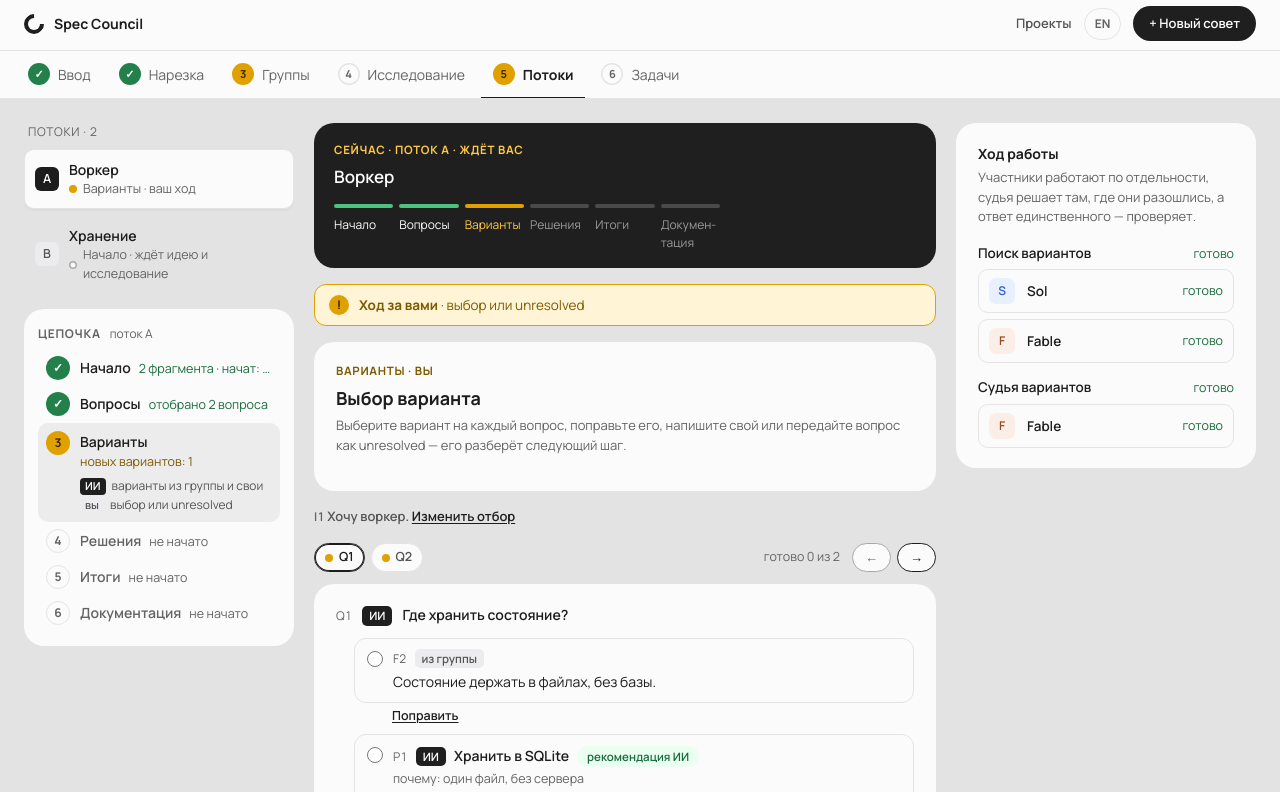
Test case: Поток: начало и вопросы › варианты: из группы и от ИИ, «пока не решаю»; выбор по каждому вопросу уходит на сервер
Expected: the text "Состояние держать в файлах, без базы." is shown, top-left (393, 671), bottom-right (656, 692)
Expected: the text "рекомендация ИИ" is shown, top-left (577, 746), bottom-right (699, 767)
Click the radio button labelled "Хранить в SQLite": (375, 754) top-left (367, 746), bottom-right (383, 762)
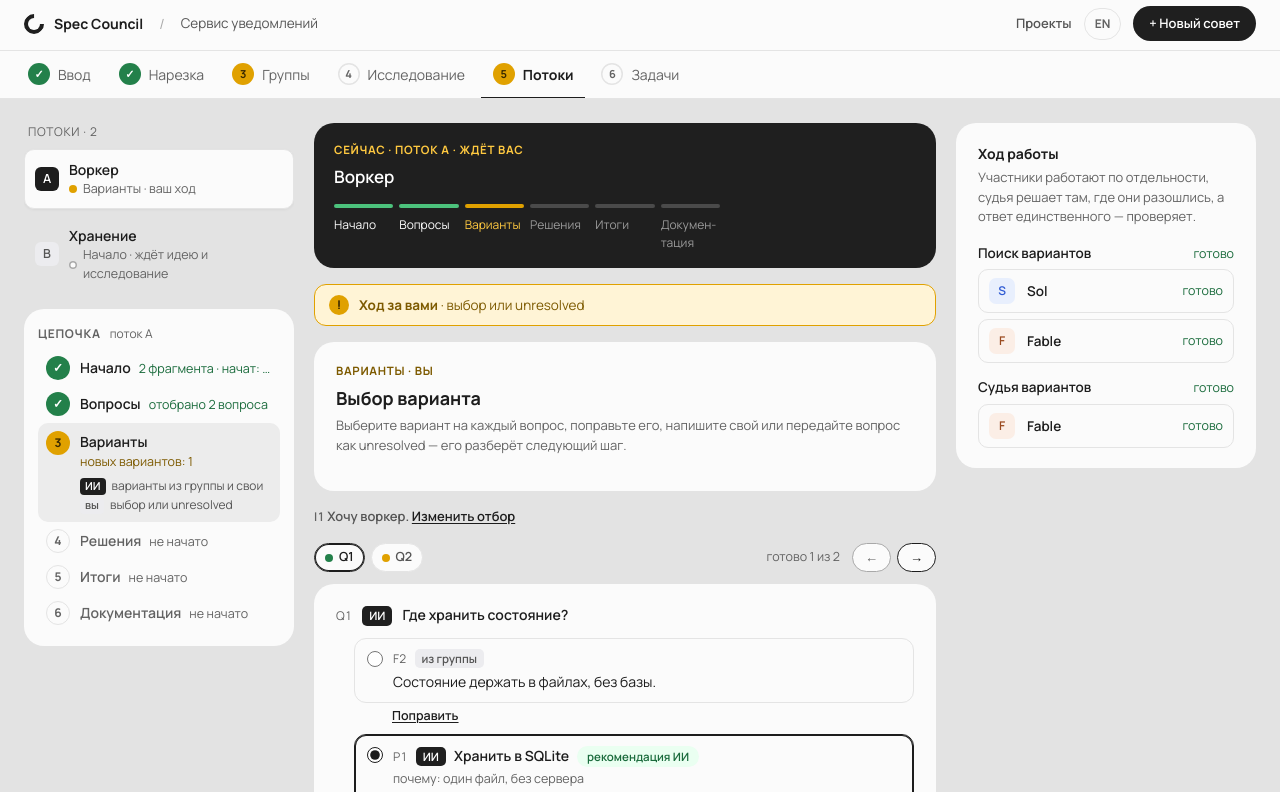
Expected: the tab named "Q1, готово" is shown, top-left (314, 543), bottom-right (364, 572)
Click the tab "Q2": (397, 558) top-left (370, 543), bottom-right (423, 572)
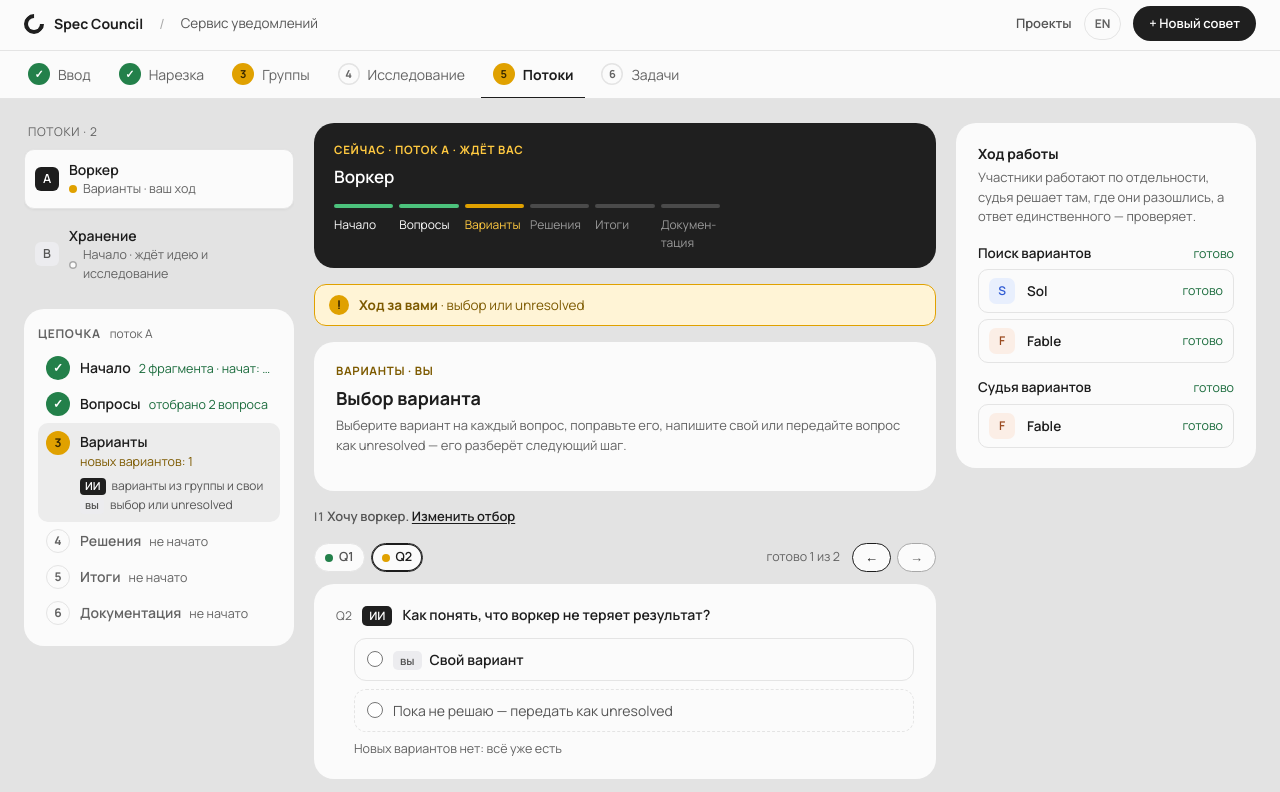
Expected: the text "Новых вариантов нет: всё уже есть" is shown, top-left (354, 740), bottom-right (562, 757)
Click the radio button labelled "Пока не решаю — передать как unresolved": (375, 710) top-left (367, 702), bottom-right (383, 718)
(page scrolled)
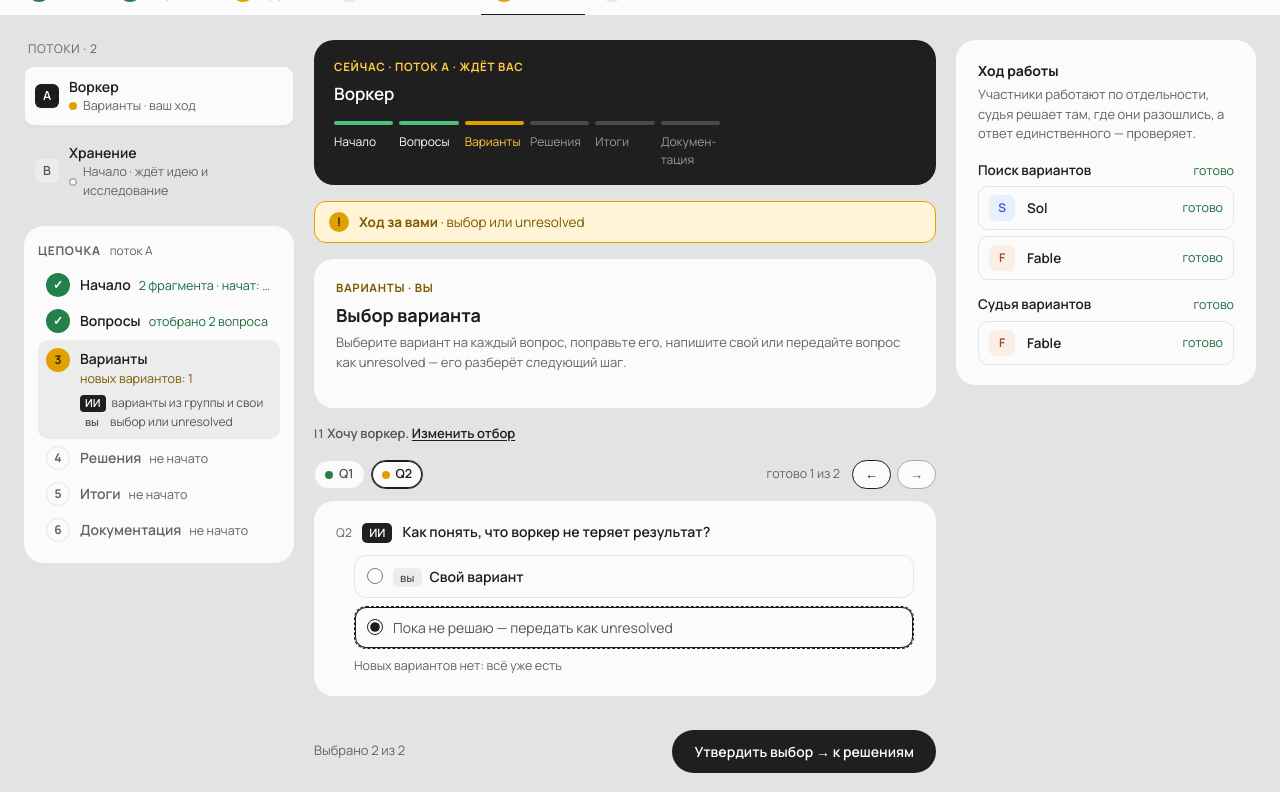
Expected: the tab named "Q2, ждёт вас" is shown, top-left (370, 460), bottom-right (423, 489)
Expected: the text "готово 1 из 2" is shown, top-left (766, 465), bottom-right (840, 484)
Expected: the text "Выбрано 2 из 2" is shown, top-left (314, 741), bottom-right (405, 761)
Click the button "Утвердить выбор → к решениям": (804, 751) top-left (672, 730), bottom-right (936, 772)
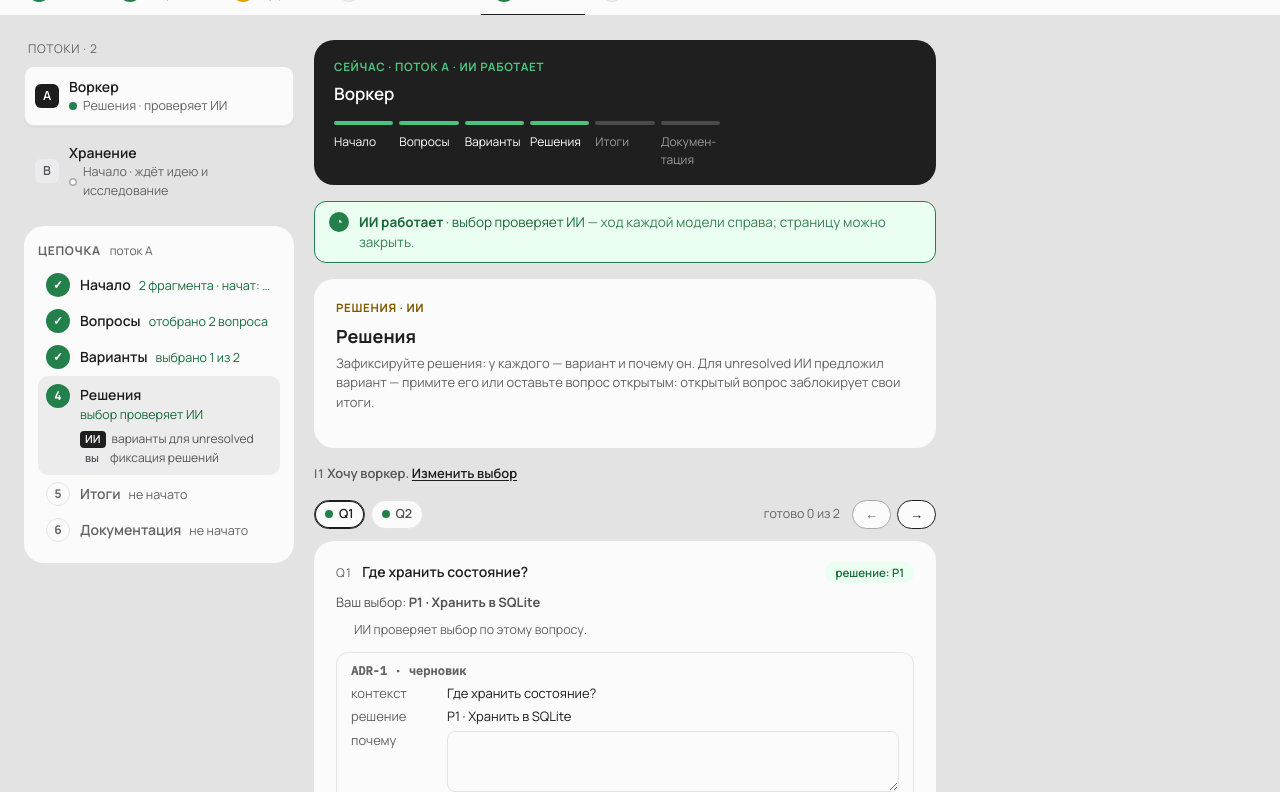
Expected: the heading "Решения" is shown, top-left (336, 324), bottom-right (416, 348)
Expected: the text "P1 · Хранить в SQLite" is shown 2 times, top-left (409, 593), bottom-right (540, 611); top-left (447, 707), bottom-right (571, 725)
Expected: the text "ИИ проверяет выбор по этому вопросу." is shown, top-left (354, 621), bottom-right (587, 638)
